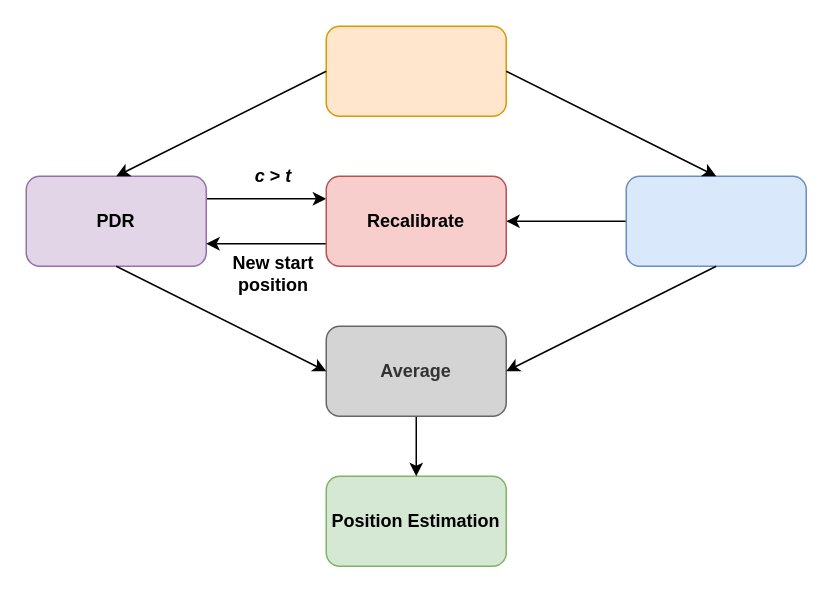
The diagram is 833 pixels wide and 593 high, and some of its shapes have lost their labels. Here are the shapes that lost their labels. From the top down, the box of each, then its label:
(325, 25, 506, 116): Measurement
(625, 175, 806, 266): Location Fingerprinting
